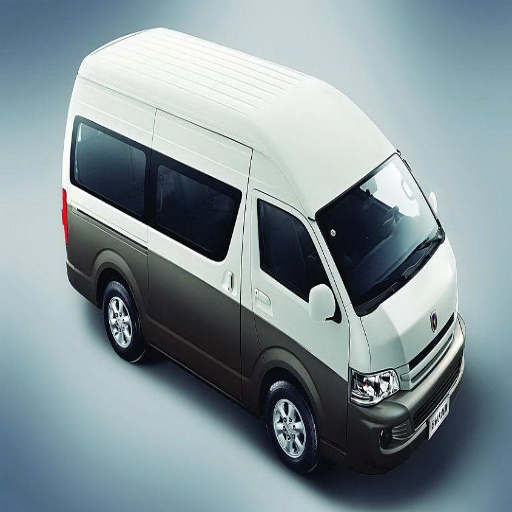front_bumper: (321, 358, 459, 472)
front_right_door: (177, 184, 343, 392)
front_right_light: (353, 373, 399, 405)
